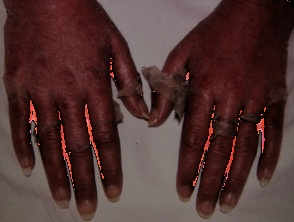SJS-TEN: (136, 5, 294, 179), (0, 32, 155, 167)
